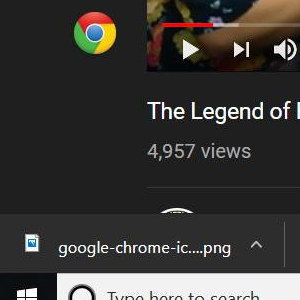chrome: (72, 11, 118, 55)
